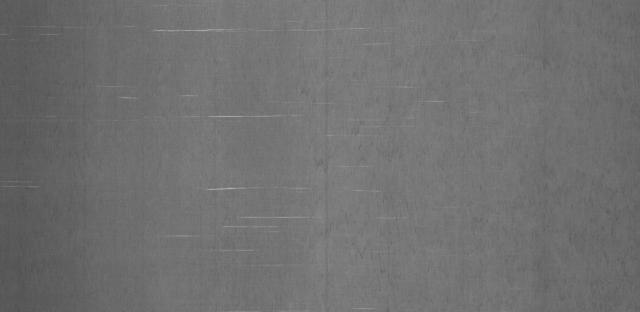waist_folding: (112, 25, 480, 265)
